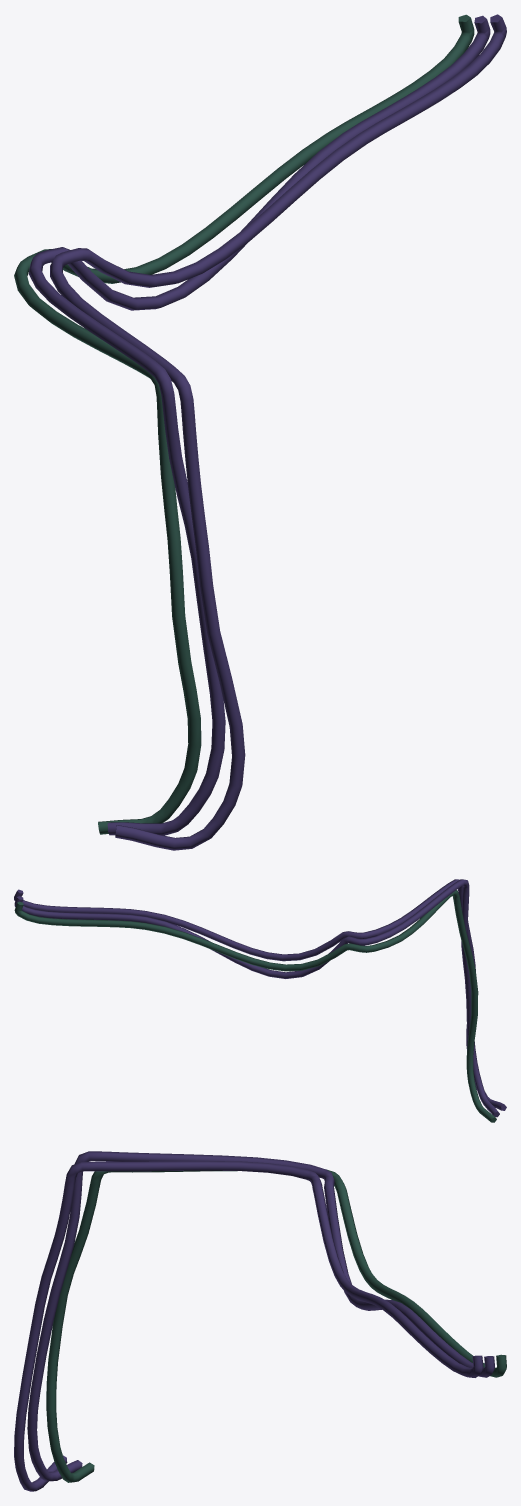
The model's file is CableHanging_Thick_04.glb.
The picture shows the model from 3 angles, top to bottom: view 1: azimuth 30°, elevation 25°; view 2: azimuth 150°, elevation 25°; view 3: azimuth 270°, elevation 25°; orthographic projection. The views are drawn at different scales.
Parts seen in each view (by area): view 1: CableHanging_Thick_04.001; view 2: CableHanging_Thick_04.001; view 3: CableHanging_Thick_04.001.
Boxes of the visible parts, x1=… form: CableHanging_Thick_04.001: x1=14, y1=14, x2=506, y2=850; CableHanging_Thick_04.001: x1=14, y1=879, x2=506, y2=1122; CableHanging_Thick_04.001: x1=14, y1=1151, x2=506, y2=1491.
Bounding box in the file's own units: 2.91 × 1.98 × 2.46.
